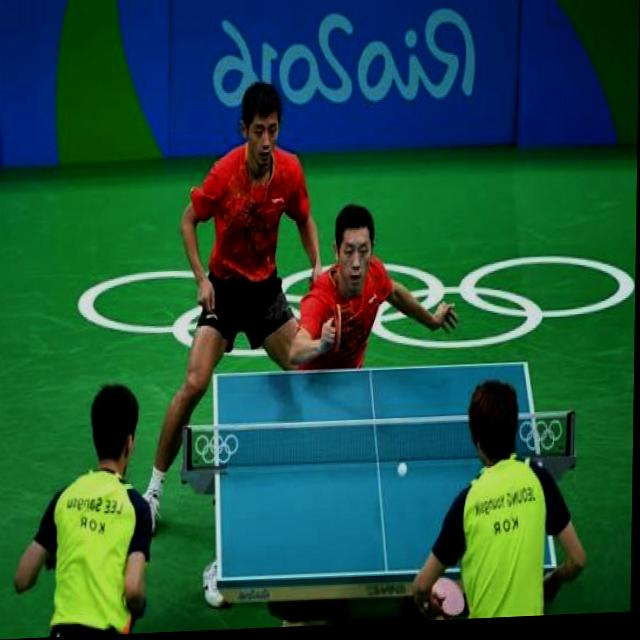TT Net: (179, 408, 577, 481)
TT Racket: (424, 571, 475, 618), (329, 301, 344, 358)
TT Table: (214, 361, 553, 580)
